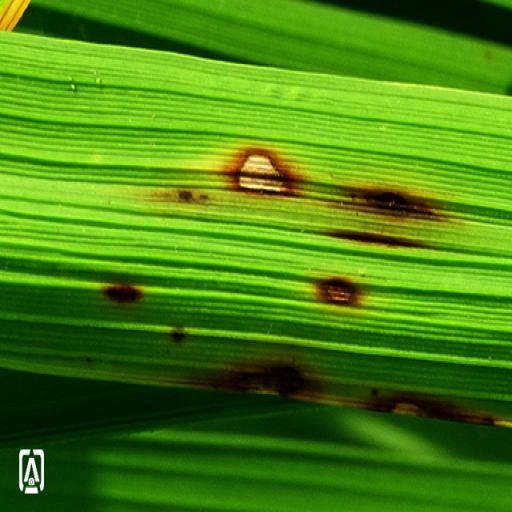Brown Spot: (340, 166, 462, 232), (350, 381, 494, 431), (226, 134, 304, 216), (196, 352, 326, 400), (316, 263, 365, 319), (162, 176, 216, 210), (100, 272, 150, 308), (165, 326, 188, 346)
